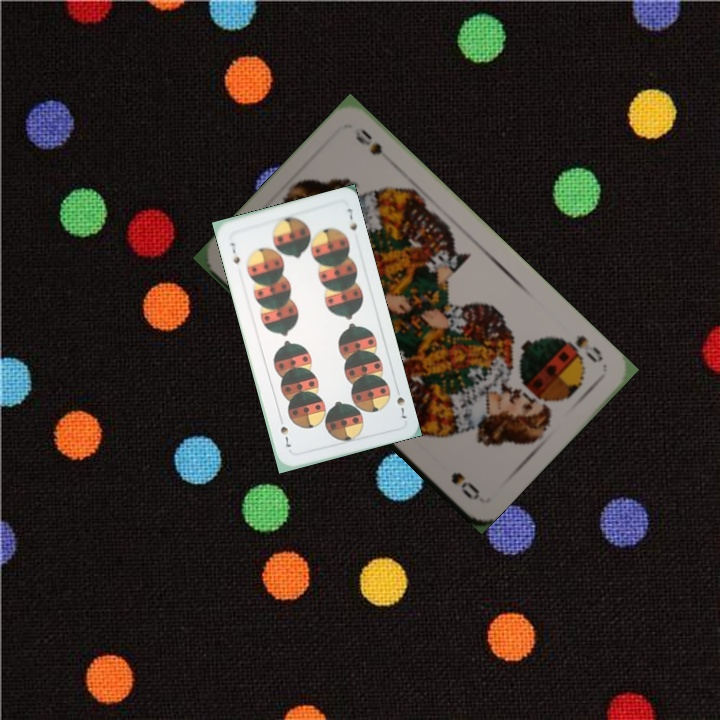S7: (392, 383, 410, 421), (226, 238, 243, 266)
SO: (556, 330, 606, 366)
